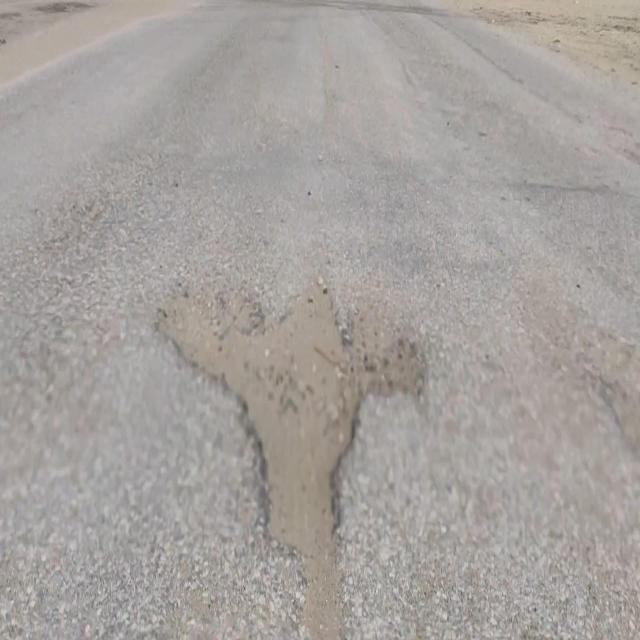Potholes: (154, 276, 426, 569)
